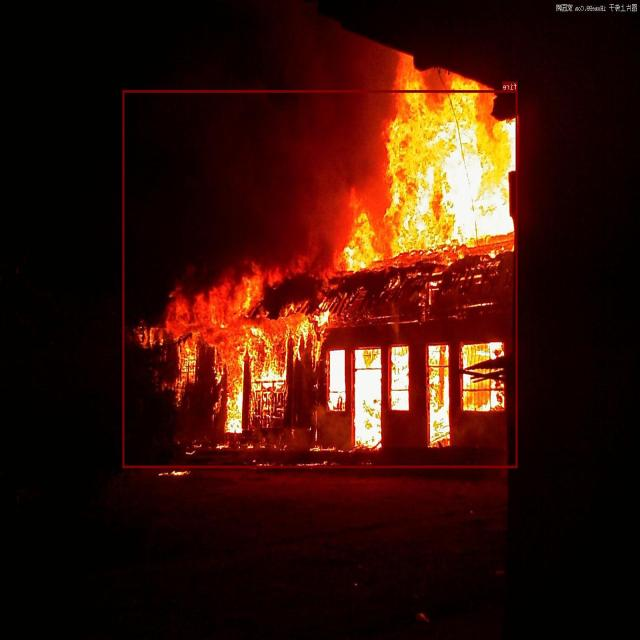fire: (123, 90, 518, 467)
